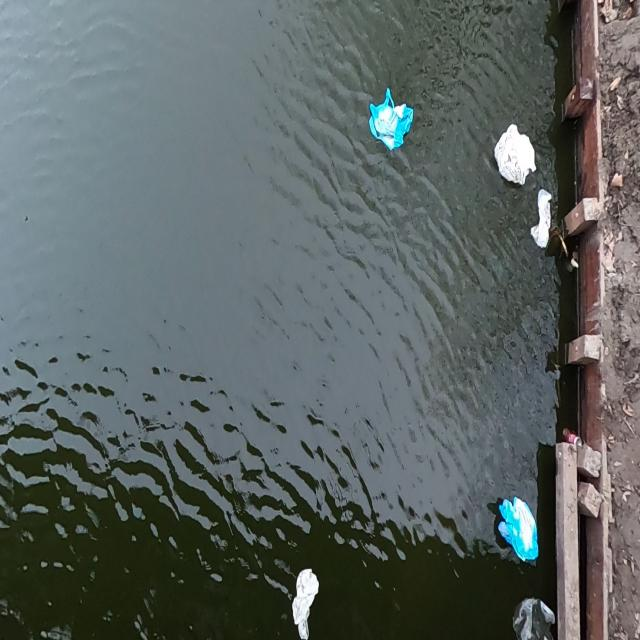Sac plastique: (494, 484, 546, 571), (366, 85, 418, 160), (490, 116, 540, 190), (286, 561, 321, 640), (506, 583, 551, 640), (530, 186, 556, 256)
